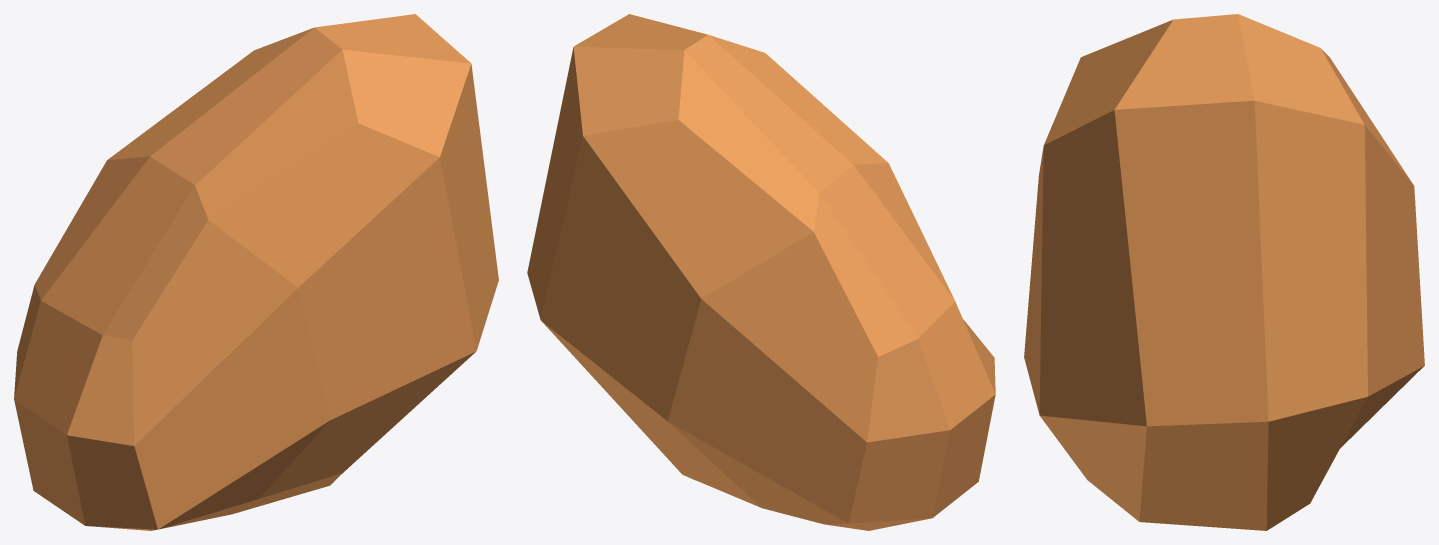
The model's file is SM_SmallRock_1.FBX.
3 views of the same model, side by side, from view 1: azimuth 30°, elevation 25°; view 2: azimuth 150°, elevation 25°; view 3: azimuth 270°, elevation 25° (orthographic). The views are drawn at different scales.
Parts seen in each view (by area): view 1: Rock 1; view 2: Rock 1; view 3: Rock 1.
Boxes of the visible parts, bbox=[...] form: Rock 1: bbox=[14, 14, 498, 530]; Rock 1: bbox=[527, 14, 995, 530]; Rock 1: bbox=[1024, 14, 1424, 530].
Bounding box in the file's own units: 76.52 × 73.07 × 49.21.
